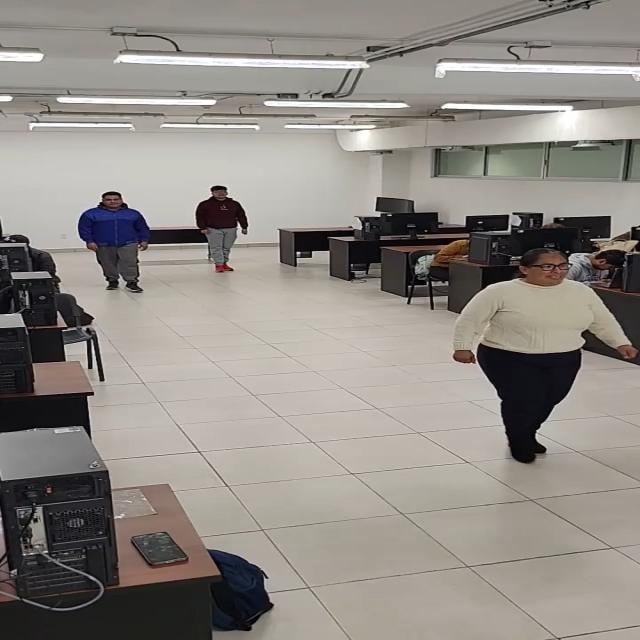Persona: (451, 247, 640, 464), (78, 191, 150, 292), (194, 186, 250, 273)
